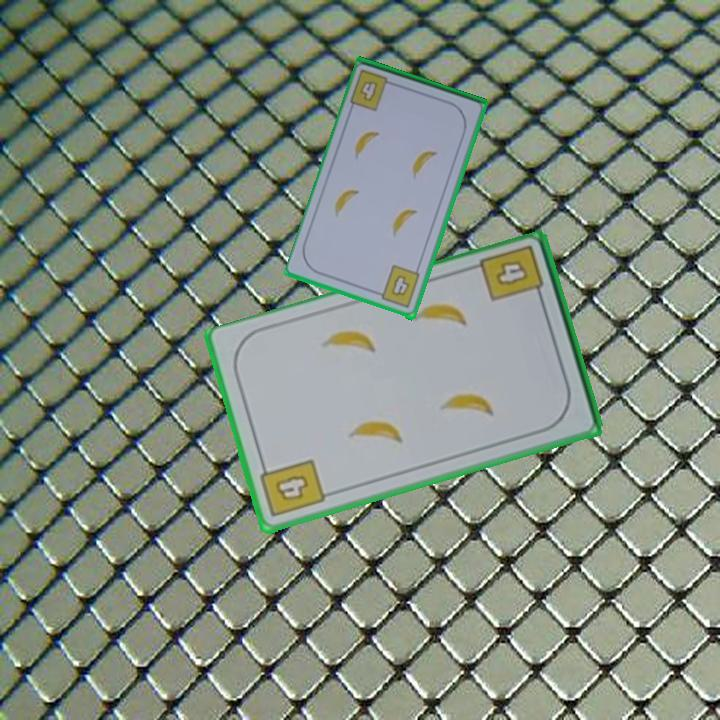4b: (257, 456, 328, 521), (477, 242, 547, 306), (372, 262, 423, 311), (356, 78, 379, 104)
